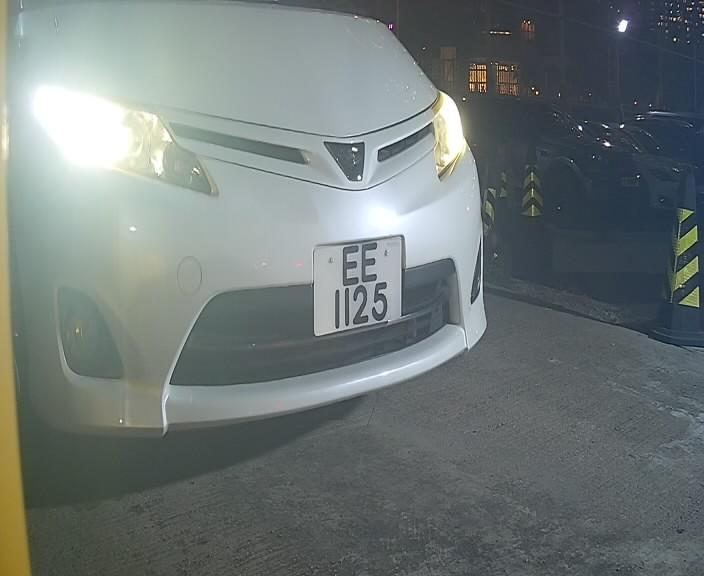privatecar: (1, 1, 513, 479)
